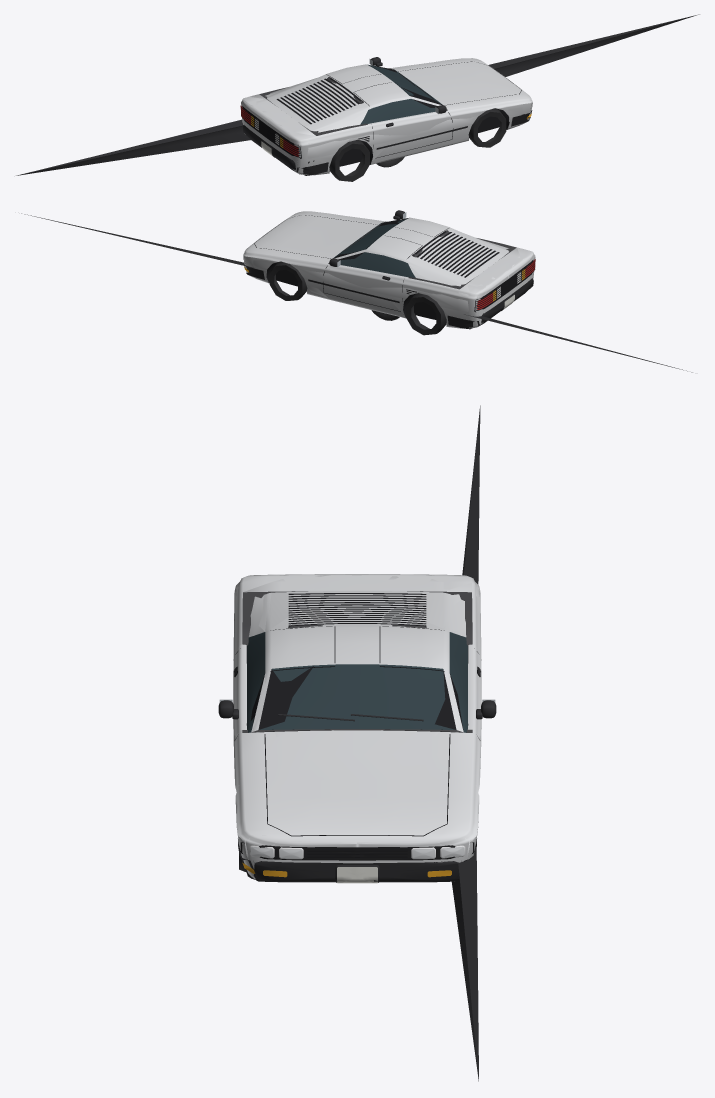
File: delorean.glb
3 views of the same model, one above another, from view 1: azimuth 30°, elevation 25°; view 2: azimuth 150°, elevation 25°; view 3: azimuth 270°, elevation 25° (orthographic). The views are drawn at different scales.
Parts seen in each view (by area): view 1: delorean, delorean_lo; view 2: delorean, delorean_lo; view 3: delorean, delorean_lo.
Part boxes in pixels (left/top/right/bottom): delorean: left=26, top=15, right=695, bottom=175; delorean_lo: left=16, top=14, right=698, bottom=181; delorean: left=21, top=210, right=635, bottom=357; delorean_lo: left=243, top=211, right=691, bottom=372; delorean: left=218, top=409, right=496, bottom=1080; delorean_lo: left=224, top=406, right=490, bottom=1081.
Size of the model in its own units: 12 by 1.48 by 2.1.
